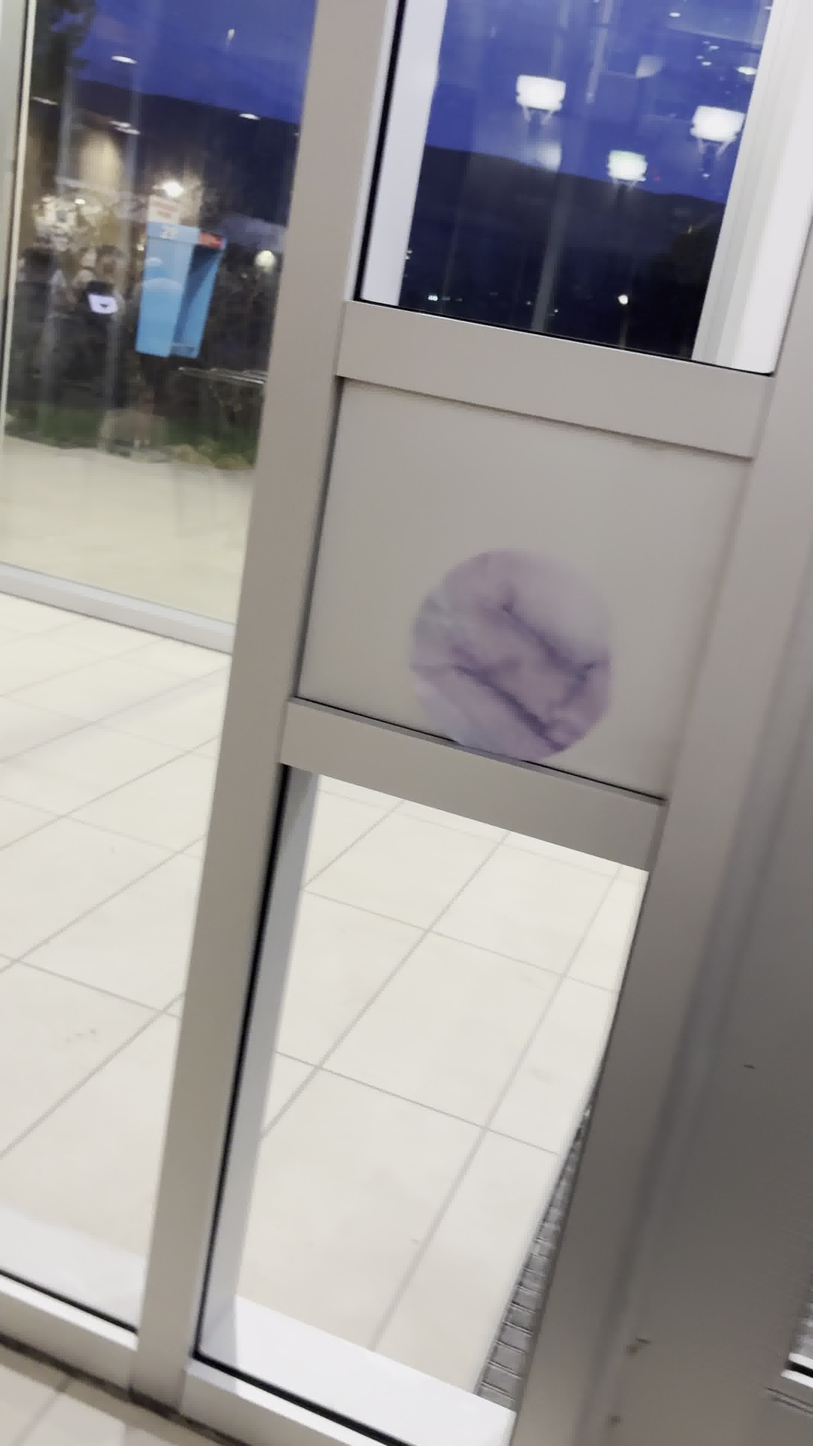Target: (404, 543, 619, 764)
